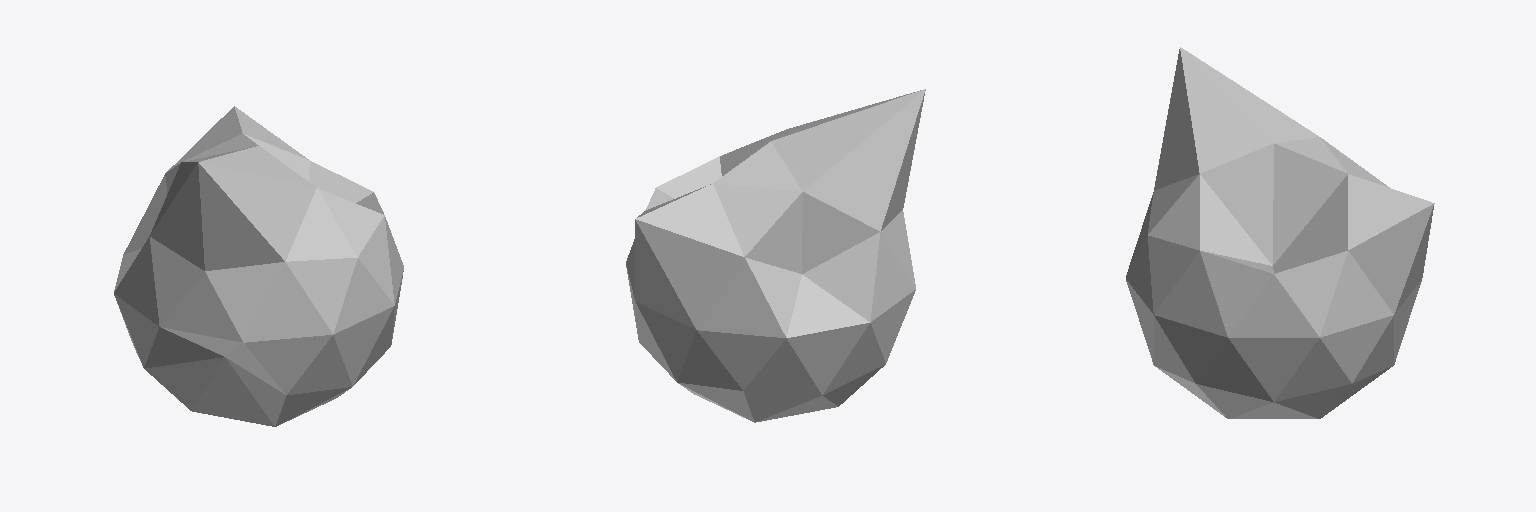
Rendered from obstacle.obj.
3 renders of one model, left to right at view 1: azimuth 30°, elevation 25°; view 2: azimuth 150°, elevation 25°; view 3: azimuth 270°, elevation 25°, orthographic.
Parts seen in each view (by area): view 1: Icosphere; view 2: Icosphere; view 3: Icosphere.
Boxes of the visible parts, box(x1,y1,x2,y2) form: Icosphere: box(114, 106, 403, 426); Icosphere: box(626, 89, 925, 422); Icosphere: box(1126, 47, 1434, 418).
Bounding box in the file's own units: 0.6119 × 0.7491 × 0.6694.